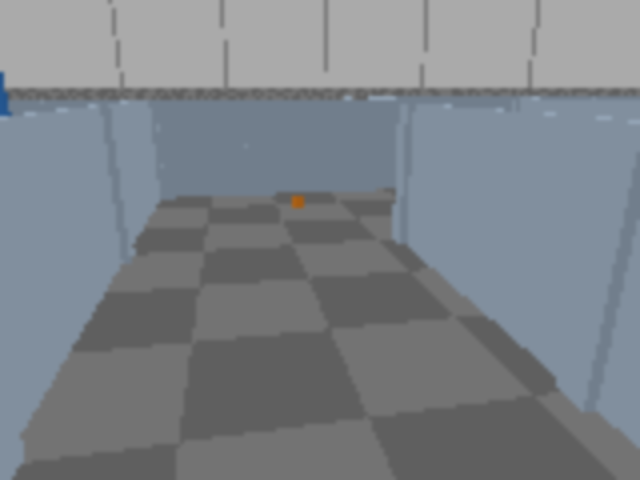person: (0, 0, 38, 344)
